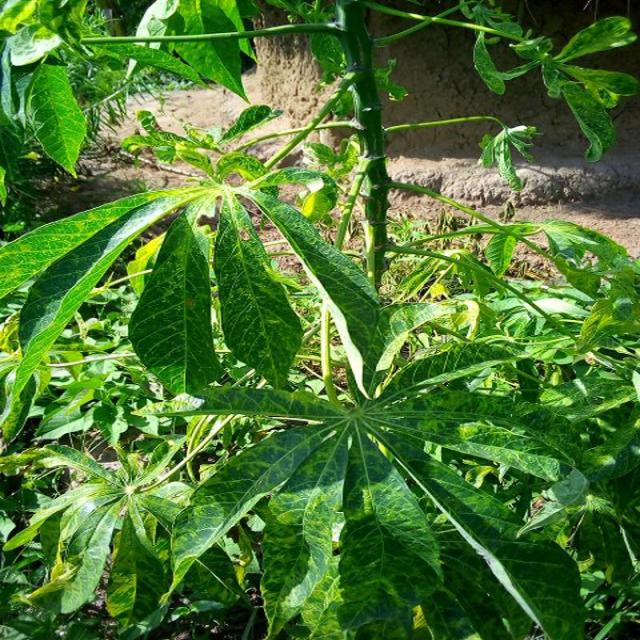cassava leaf: (126, 211, 224, 398), (212, 188, 303, 388)
